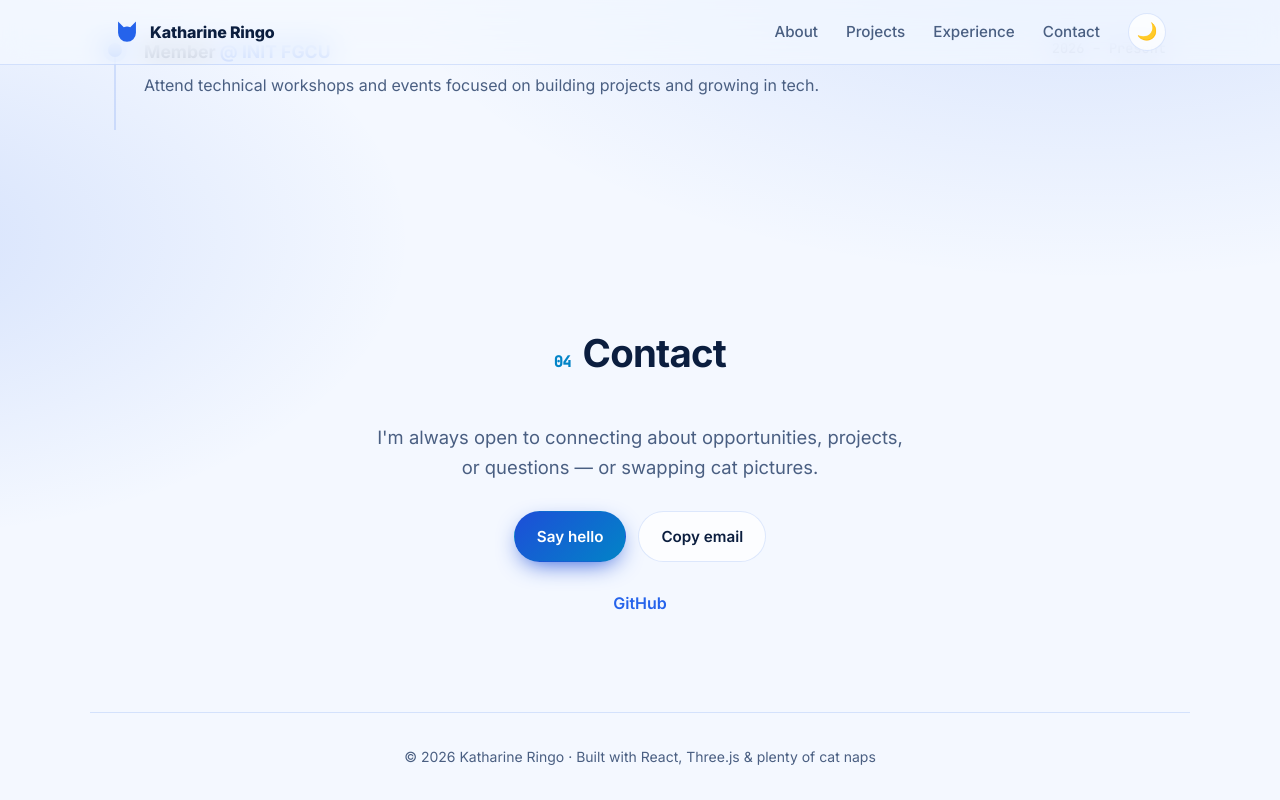
Test: App › copies email to clipboard
(page scrolled)
Click the button "Copy email" at coordinates (702, 536), box left=638, top=510, right=766, bottom=562
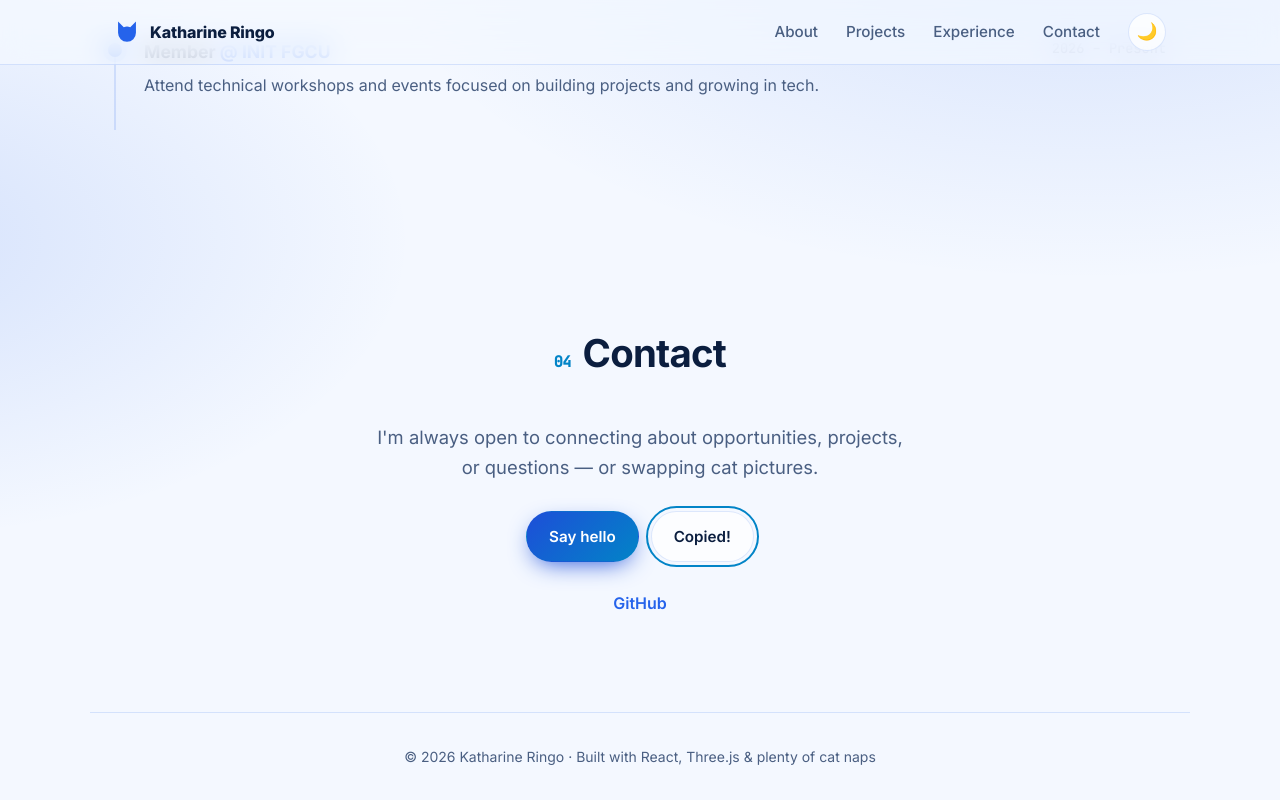
Check: the button "Copied!" is shown, box left=651, top=510, right=754, bottom=562
